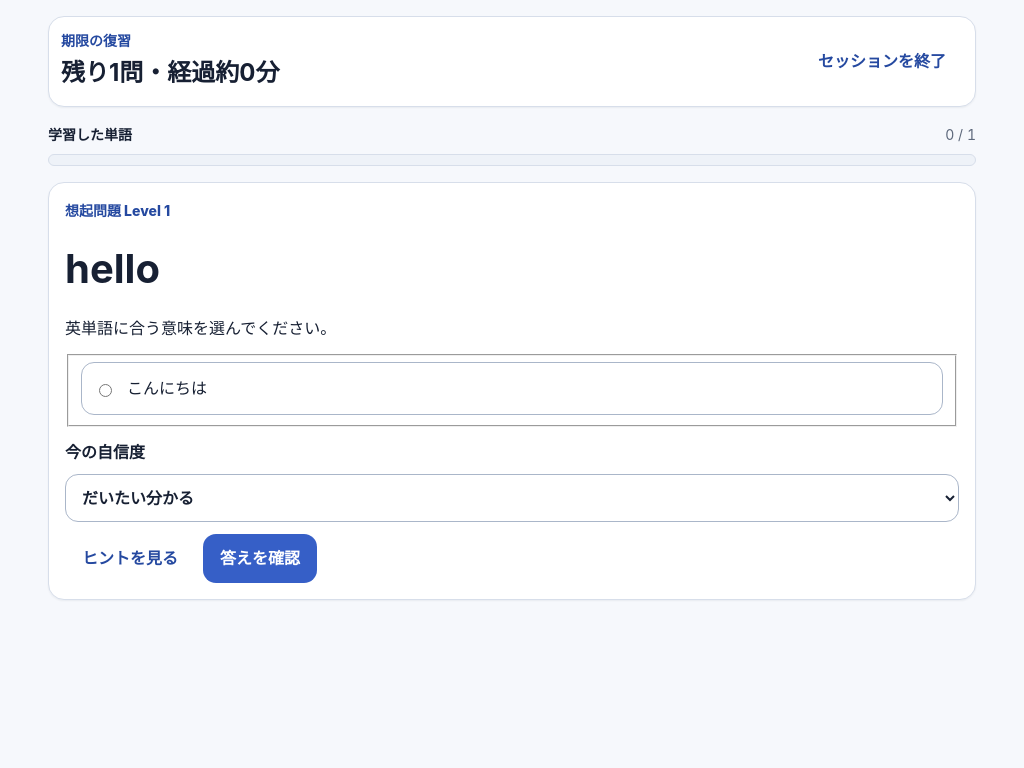
Scenario: 単語ページ › 期限復習を完了するとセッションsummaryを表示する
Expected: the text "想起問題 Level 1" is shown, [65,202,170,219]
What coordinates should you click on to do the following:
click the radio button labelled "こんにちは"
I would click on:
 (106, 390)
Its box is [99,384,112,397].
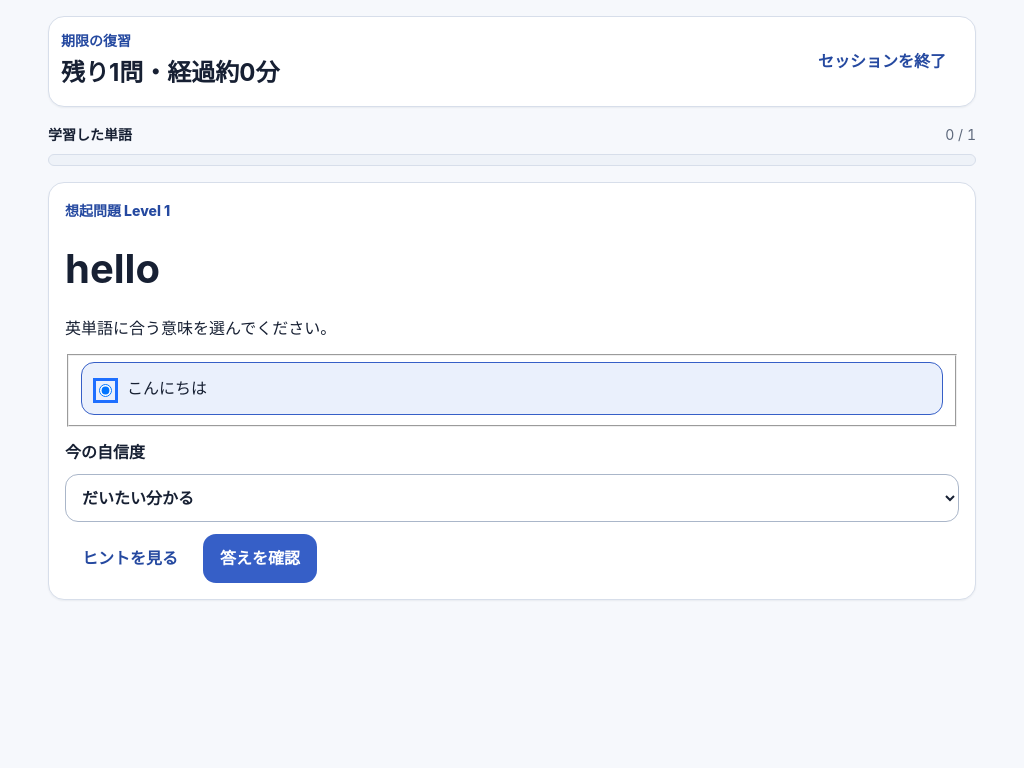
What coordinates should you click on to do the following:
click the button "答えを確認"
I would click on:
 (260, 558)
Its box is [203,534,317,583].
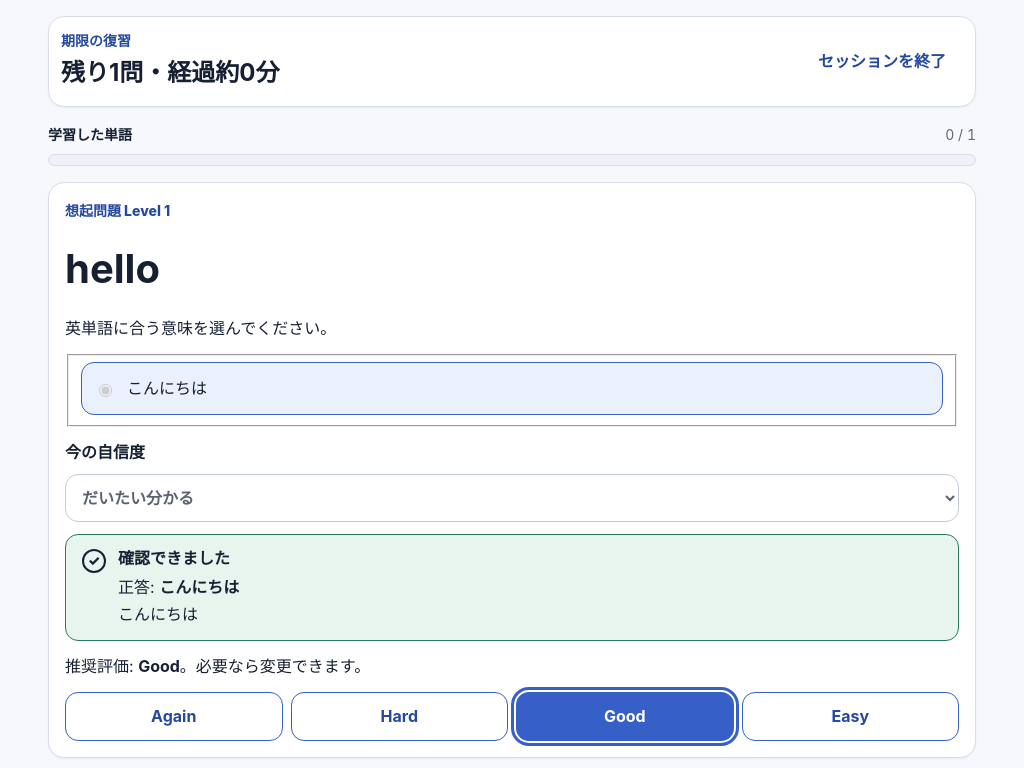
What coordinates should you click on to do the following:
click the button "Good"
I would click on:
 (625, 716)
Its box is [516,692,734,741].
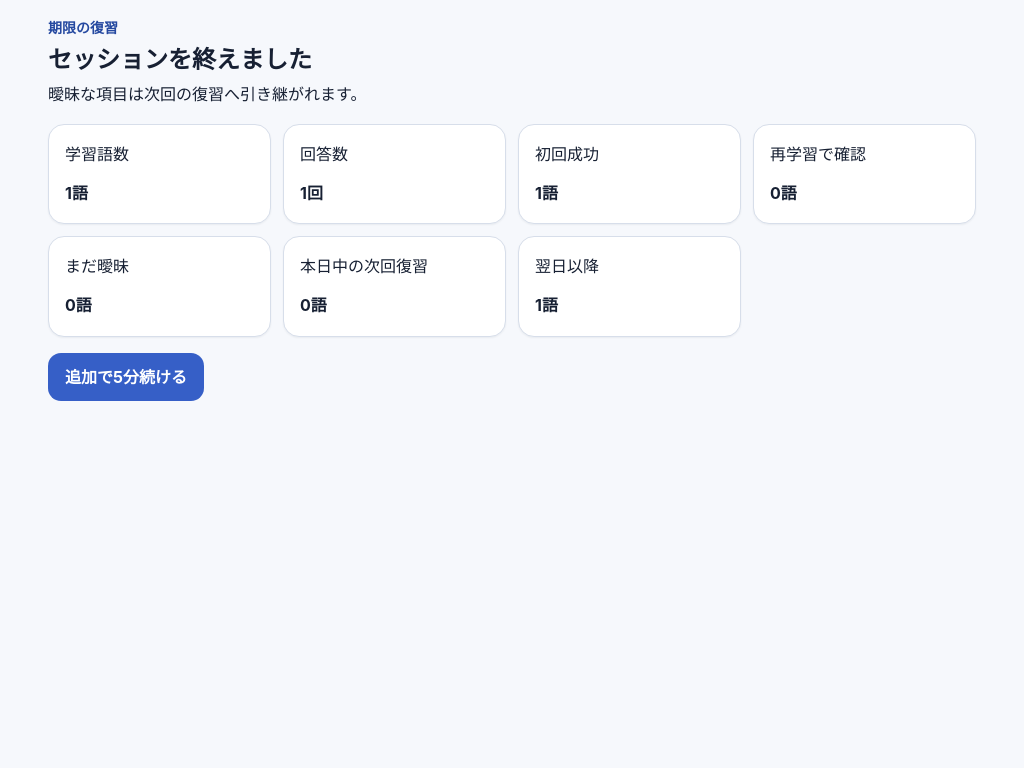
Expected: the heading "セッションを終えました" is shown, [48,45,312,74]
